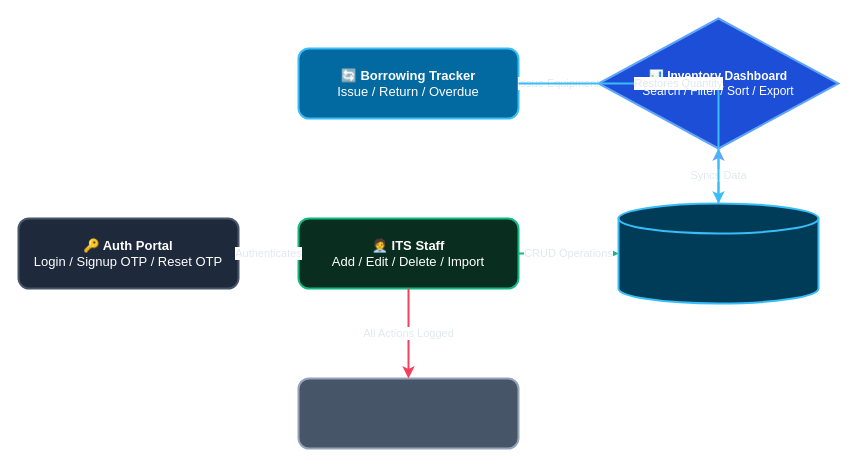
The diagram is 856 pixels wide and 466 high, and some of its shapes have lost their labels. The shapes that lost their labels are listed below. From the top down, each one's centre as x and y in pixels, then its label:
At point 718,253: "🗄️ Inventory DB SQLite / PostgreSQL".
At point 408,413: "📝 Activity Log Audit Trail + Diffs".
